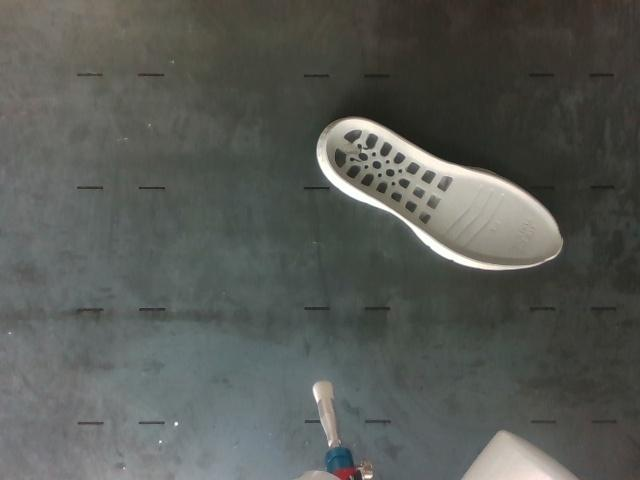shoes: (324, 119, 562, 266)
